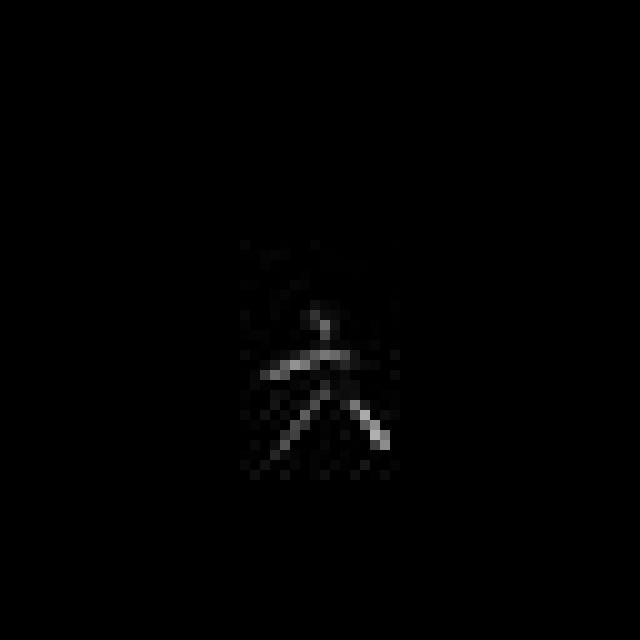6 -six-: (257, 306, 404, 469)
